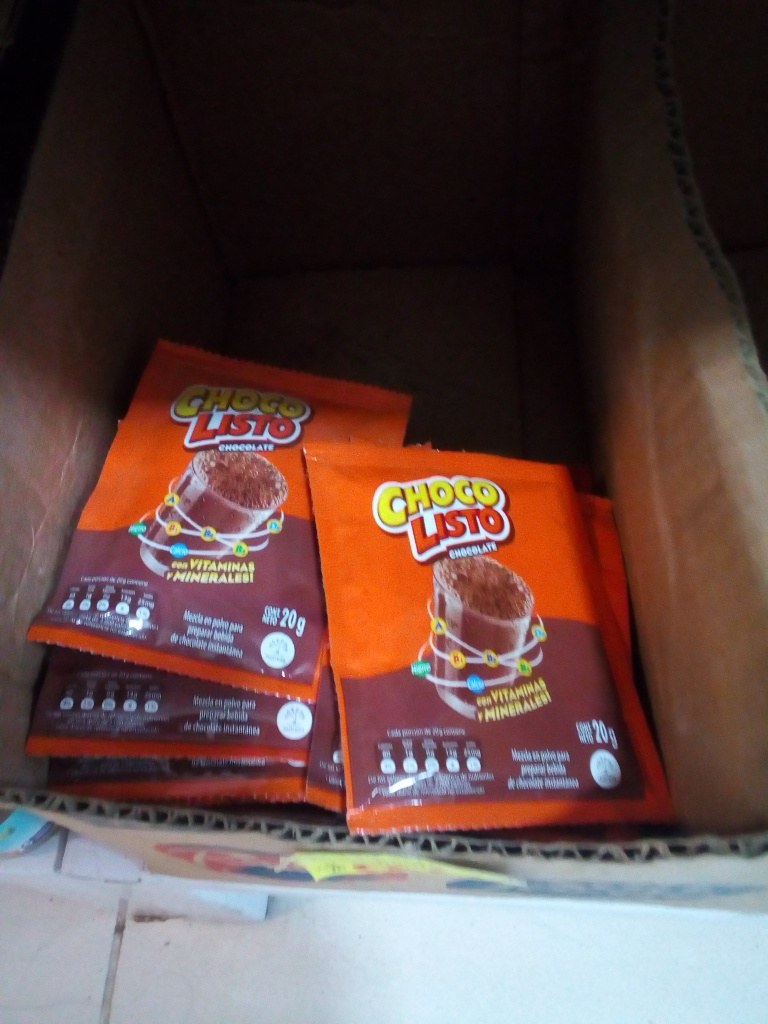COL0170103SOB02000: (300, 449, 666, 845)
